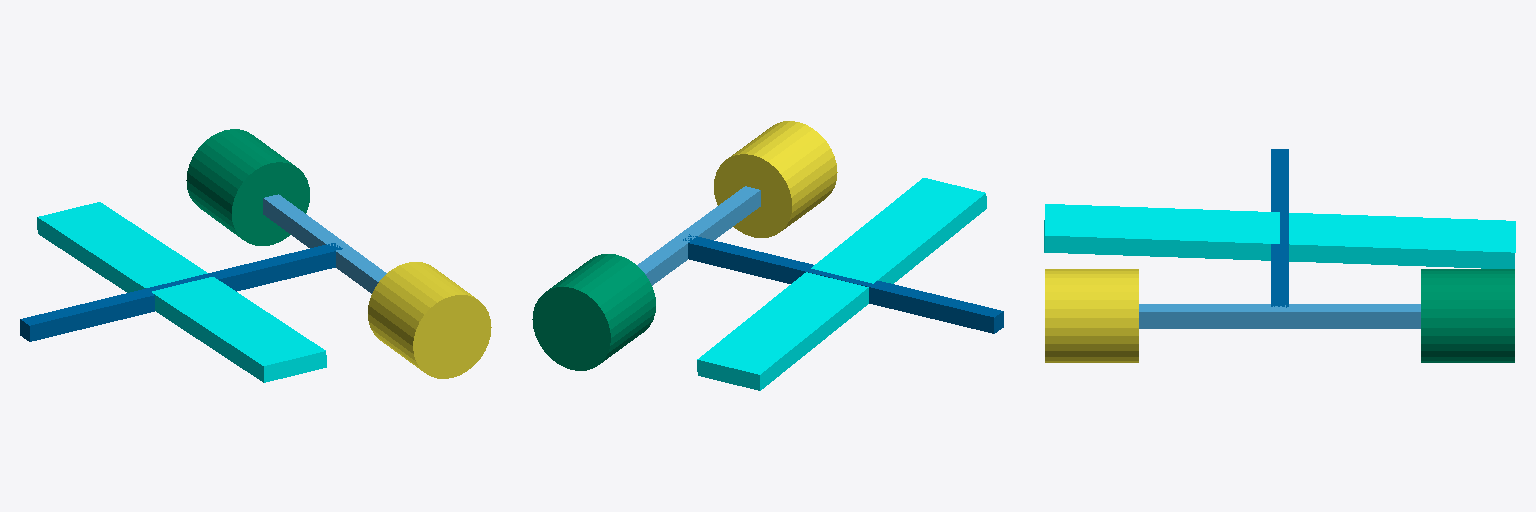
URDF robot description (robot_2_0):
<?xml version="1.0"?>
<robot name="robot_2_0">

    <link name="moving_platform">
    </link>

    <link name="track_gauge">
      <visual>
        <origin xyz="0 0 0" rpy="0 0 0" />
        <geometry>
          <box size="0.02 0.4 0.02"/>
        </geometry>
      </visual>
    </link>

    <link name="left_wheel">
      <visual>
        <origin xyz="0 0 0" rpy="1.57075 0 0" />
        <geometry>
          <cylinder length="0.1" radius="0.05"/>
        </geometry>
      </visual>
    </link>

    <link name="right_wheel">
      <visual>
        <origin xyz="0 0 0" rpy="1.57075 0 0" />
        <geometry>
          <cylinder length="0.1" radius="0.05"/>
        </geometry>
      </visual>
    </link>

    <link name="joint_offset">
      <visual>
        <origin xyz="0 0 0" rpy="0 0 0" />
        <geometry>
          <box size="0.4 0.02  0.02"/>
        </geometry>
      </visual>
    </link>

    <link name="castor_arm">
      <visual>
        <origin xyz="0 0 0" rpy="0 0 0" />
        <geometry>
          <box size="0.08 0.5  0.02"/>
        </geometry>
        <material name="Cyan">
          <color rgba="0 1.0 1.0 1.0"/>
        </material>
      </visual>
    </link>



<!-- Joints -->

    <joint name="attach_to_tf" type="fixed">
      <parent link="moving_platform"/>
      <child link="track_gauge"/>
      <origin xyz="0 0 0" rpy="0 0 0" />
    </joint>

    <joint name="left_wheel_joint" type="fixed">
      <axis rpy="0 0 0" xyz="0 1 0"/>
      <parent link="moving_platform"/>
      <child link="left_wheel"/>
      <origin rpy="0 0 0" xyz="0 0.2 0"/>
    </joint>

    <joint name="right_wheel_joint" type="fixed">
      <axis rpy="0 0 0" xyz="0 1 0"/>
      <parent link="moving_platform"/>
      <child link="right_wheel"/>
      <origin rpy="0 0 0" xyz="0 -0.2 0"/>
    </joint>

    <joint name="joint_offset_joint" type="fixed">
      <axis rpy="0 0 0" xyz="0 1 0"/>
      <parent link="moving_platform"/>
      <child link="joint_offset"/>
      <origin rpy="0 0 0" xyz="-0.2 0 0"/>
    </joint>

    <joint name="castor_joint" type="revolute">
      <limit lower="-1.57" upper="1.57" effort="10" velocity="3"/>
      <parent link="joint_offset"/>
      <child link="castor_arm"/>
      <origin xyz="0 0 0" rpy="-0.04 0 0" />
      <axis xyz="0 0 1" />
    </joint>




</robot>

--- What the picture shows (computed from the rendered views, not written in the file) ---
Views: 3 orthographic renders of the robot side by side, from view 1: azimuth 30°, elevation 25°; view 2: azimuth 150°, elevation 25°; view 3: azimuth 270°, elevation 25°.
Model robot_2_0 with 6 links and 5 joints (1 revolute, 4 fixed), rooted at moving_platform, posed all joints at 0.
Links seen in each view (by area): view 1: castor_arm, right_wheel, left_wheel, joint_offset, track_gauge; view 2: castor_arm, left_wheel, right_wheel, joint_offset, track_gauge; view 3: castor_arm, left_wheel, right_wheel, track_gauge, joint_offset.
Link boxes in pixels (left/top/right/bottom): castor_arm: left=37, top=202, right=326, bottom=382; right_wheel: left=368, top=262, right=491, bottom=378; left_wheel: left=186, top=129, right=309, bottom=245; joint_offset: left=20, top=243, right=342, bottom=341; track_gauge: left=263, top=194, right=386, bottom=293; castor_arm: left=697, top=178, right=986, bottom=390; left_wheel: left=532, top=254, right=655, bottom=370; right_wheel: left=714, top=121, right=837, bottom=237; joint_offset: left=683, top=234, right=1003, bottom=333; track_gauge: left=637, top=186, right=760, bottom=285; castor_arm: left=1044, top=204, right=1515, bottom=268; left_wheel: left=1421, top=269, right=1514, bottom=362; right_wheel: left=1045, top=269, right=1138, bottom=362; track_gauge: left=1139, top=304, right=1420, bottom=328; joint_offset: left=1271, top=149, right=1288, bottom=307.
Size in the robot's own frame: 0.45 by 0.5004 by 0.1 metres.
Geometry: primitives only (box / cylinder / sphere), no mesh files.